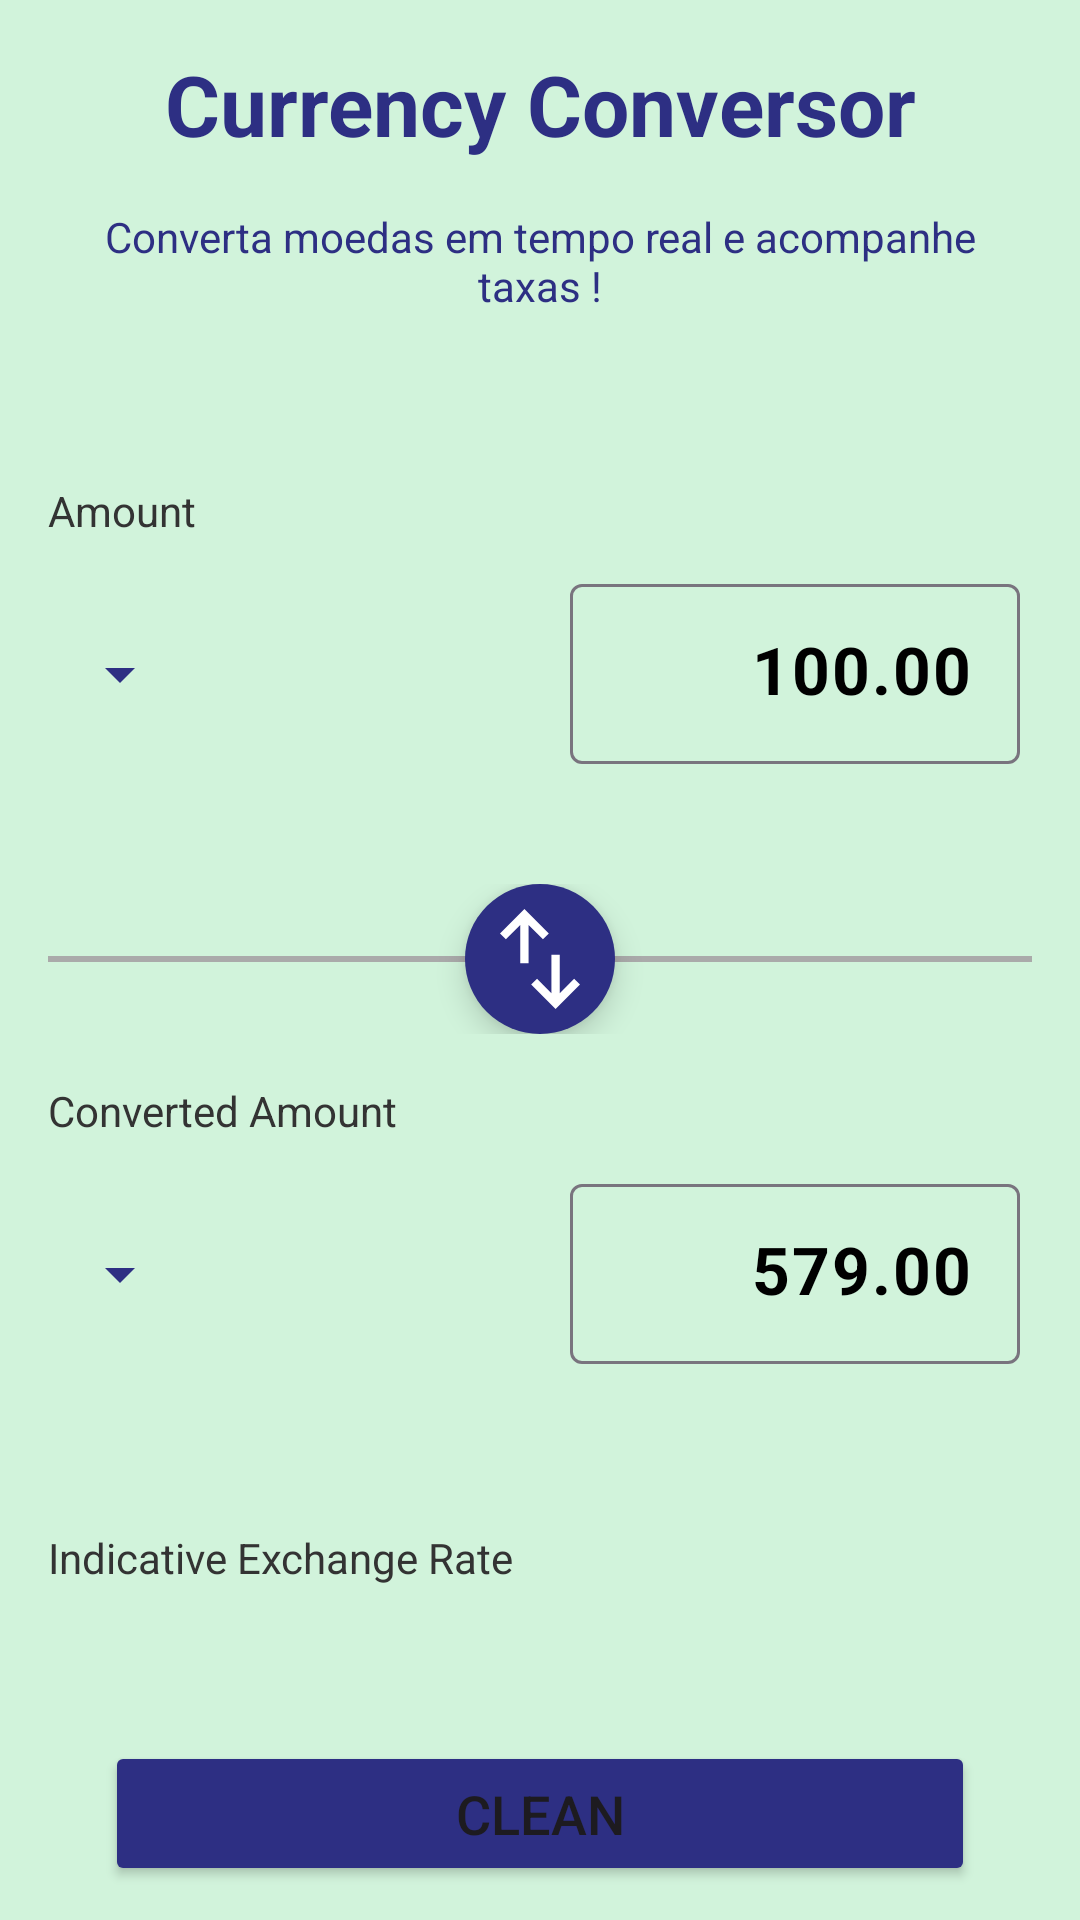

Icon click points for this 1080 x 1920 phone screenshot, format point (x, y):
Trocar moedas: point (540, 959)
